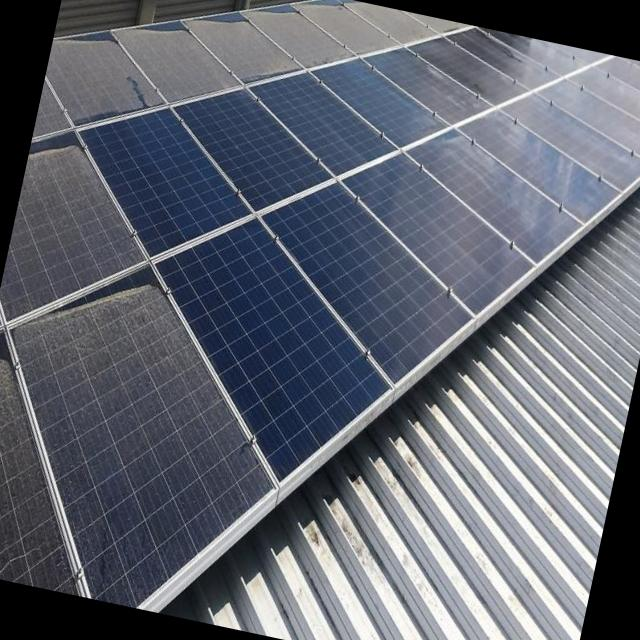faulty: (2, 268, 271, 606), (0, 132, 136, 320), (0, 385, 83, 583), (46, 33, 167, 121), (114, 26, 245, 99), (183, 13, 295, 80), (251, 6, 338, 68), (293, 6, 401, 54)
no faulty: (79, 28, 640, 465)
